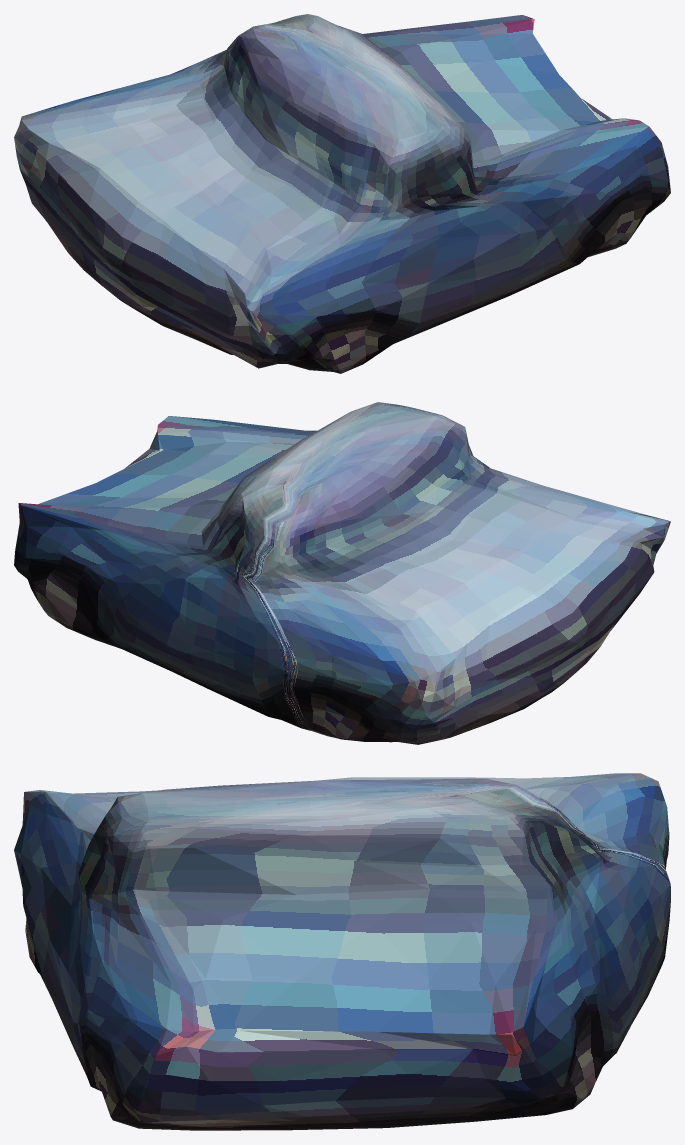
File: video3_302.obj
3 views of the same model, one above another, from view 1: azimuth 30°, elevation 25°; view 2: azimuth 150°, elevation 25°; view 3: azimuth 270°, elevation 25° (orthographic). The views are drawn at different scales.
Bounding box in the file's own units: 1 × 0.3868 × 0.8879.
Materials: 1 (1 with a texture image).
